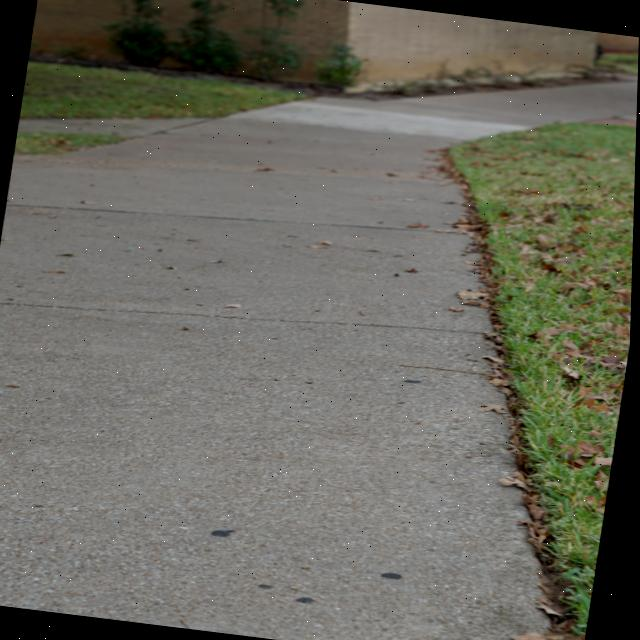Sidewalk: (0, 77, 638, 640)
